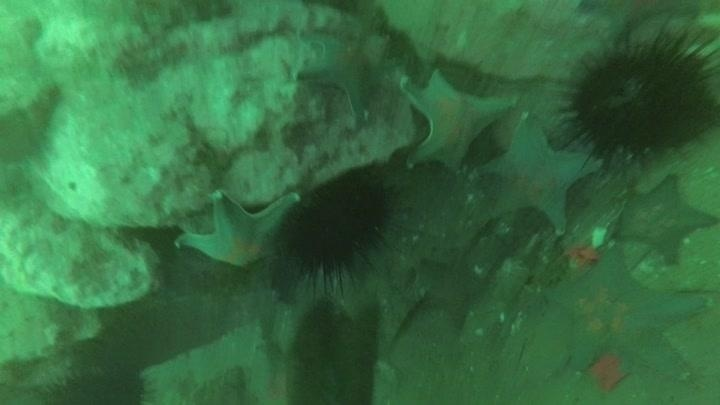echinus: (559, 26, 718, 169), (275, 169, 399, 291), (41, 359, 151, 405)
starfish: (541, 241, 708, 384), (474, 114, 602, 237), (400, 65, 516, 175), (173, 187, 305, 274), (613, 172, 719, 267), (298, 30, 401, 121), (411, 249, 489, 329), (575, 1, 704, 45)
